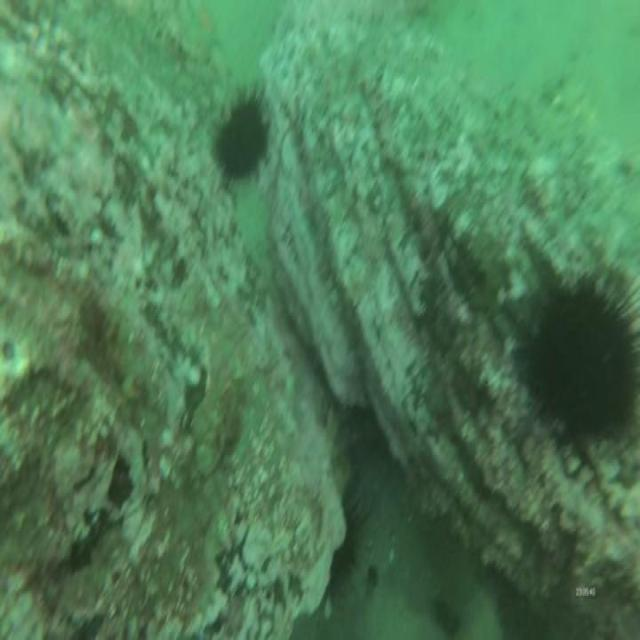echinus: (513, 259, 640, 468), (212, 82, 274, 193), (329, 485, 361, 596)
